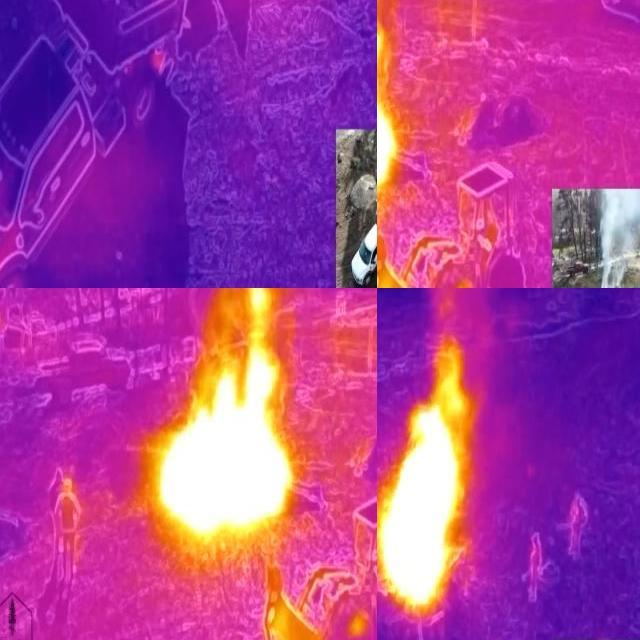fire: (157, 344, 291, 546), (378, 346, 473, 616), (375, 18, 403, 197)
